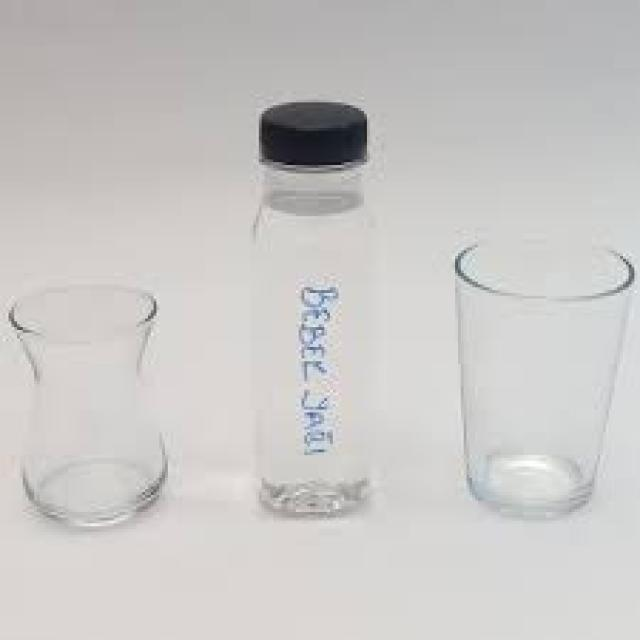Dry: (247, 95, 385, 515), (453, 234, 634, 510), (5, 278, 171, 530)
